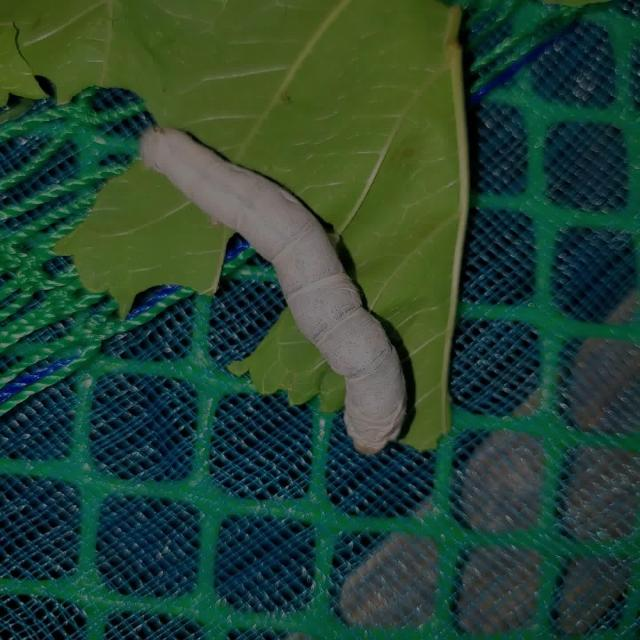Healthy: (122, 105, 414, 468)
